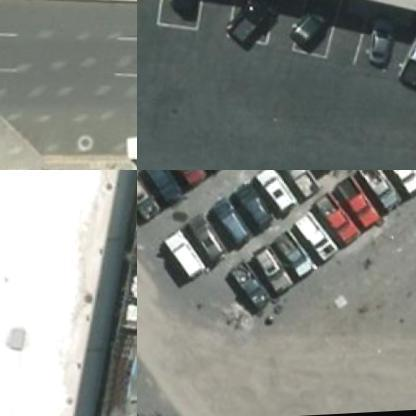car: (229, 0, 282, 63), (362, 2, 406, 74), (334, 181, 384, 235), (312, 199, 362, 253), (292, 215, 342, 269), (293, 0, 339, 54), (184, 219, 233, 269), (164, 233, 212, 284), (210, 204, 258, 254), (358, 170, 409, 217), (274, 236, 322, 284), (248, 250, 296, 298), (223, 270, 271, 318), (233, 186, 281, 234), (254, 170, 302, 216), (146, 170, 195, 209), (276, 170, 325, 200), (137, 173, 164, 224), (380, 170, 415, 202), (401, 25, 415, 98), (168, 170, 216, 191), (300, 170, 348, 182), (122, 131, 136, 164)
